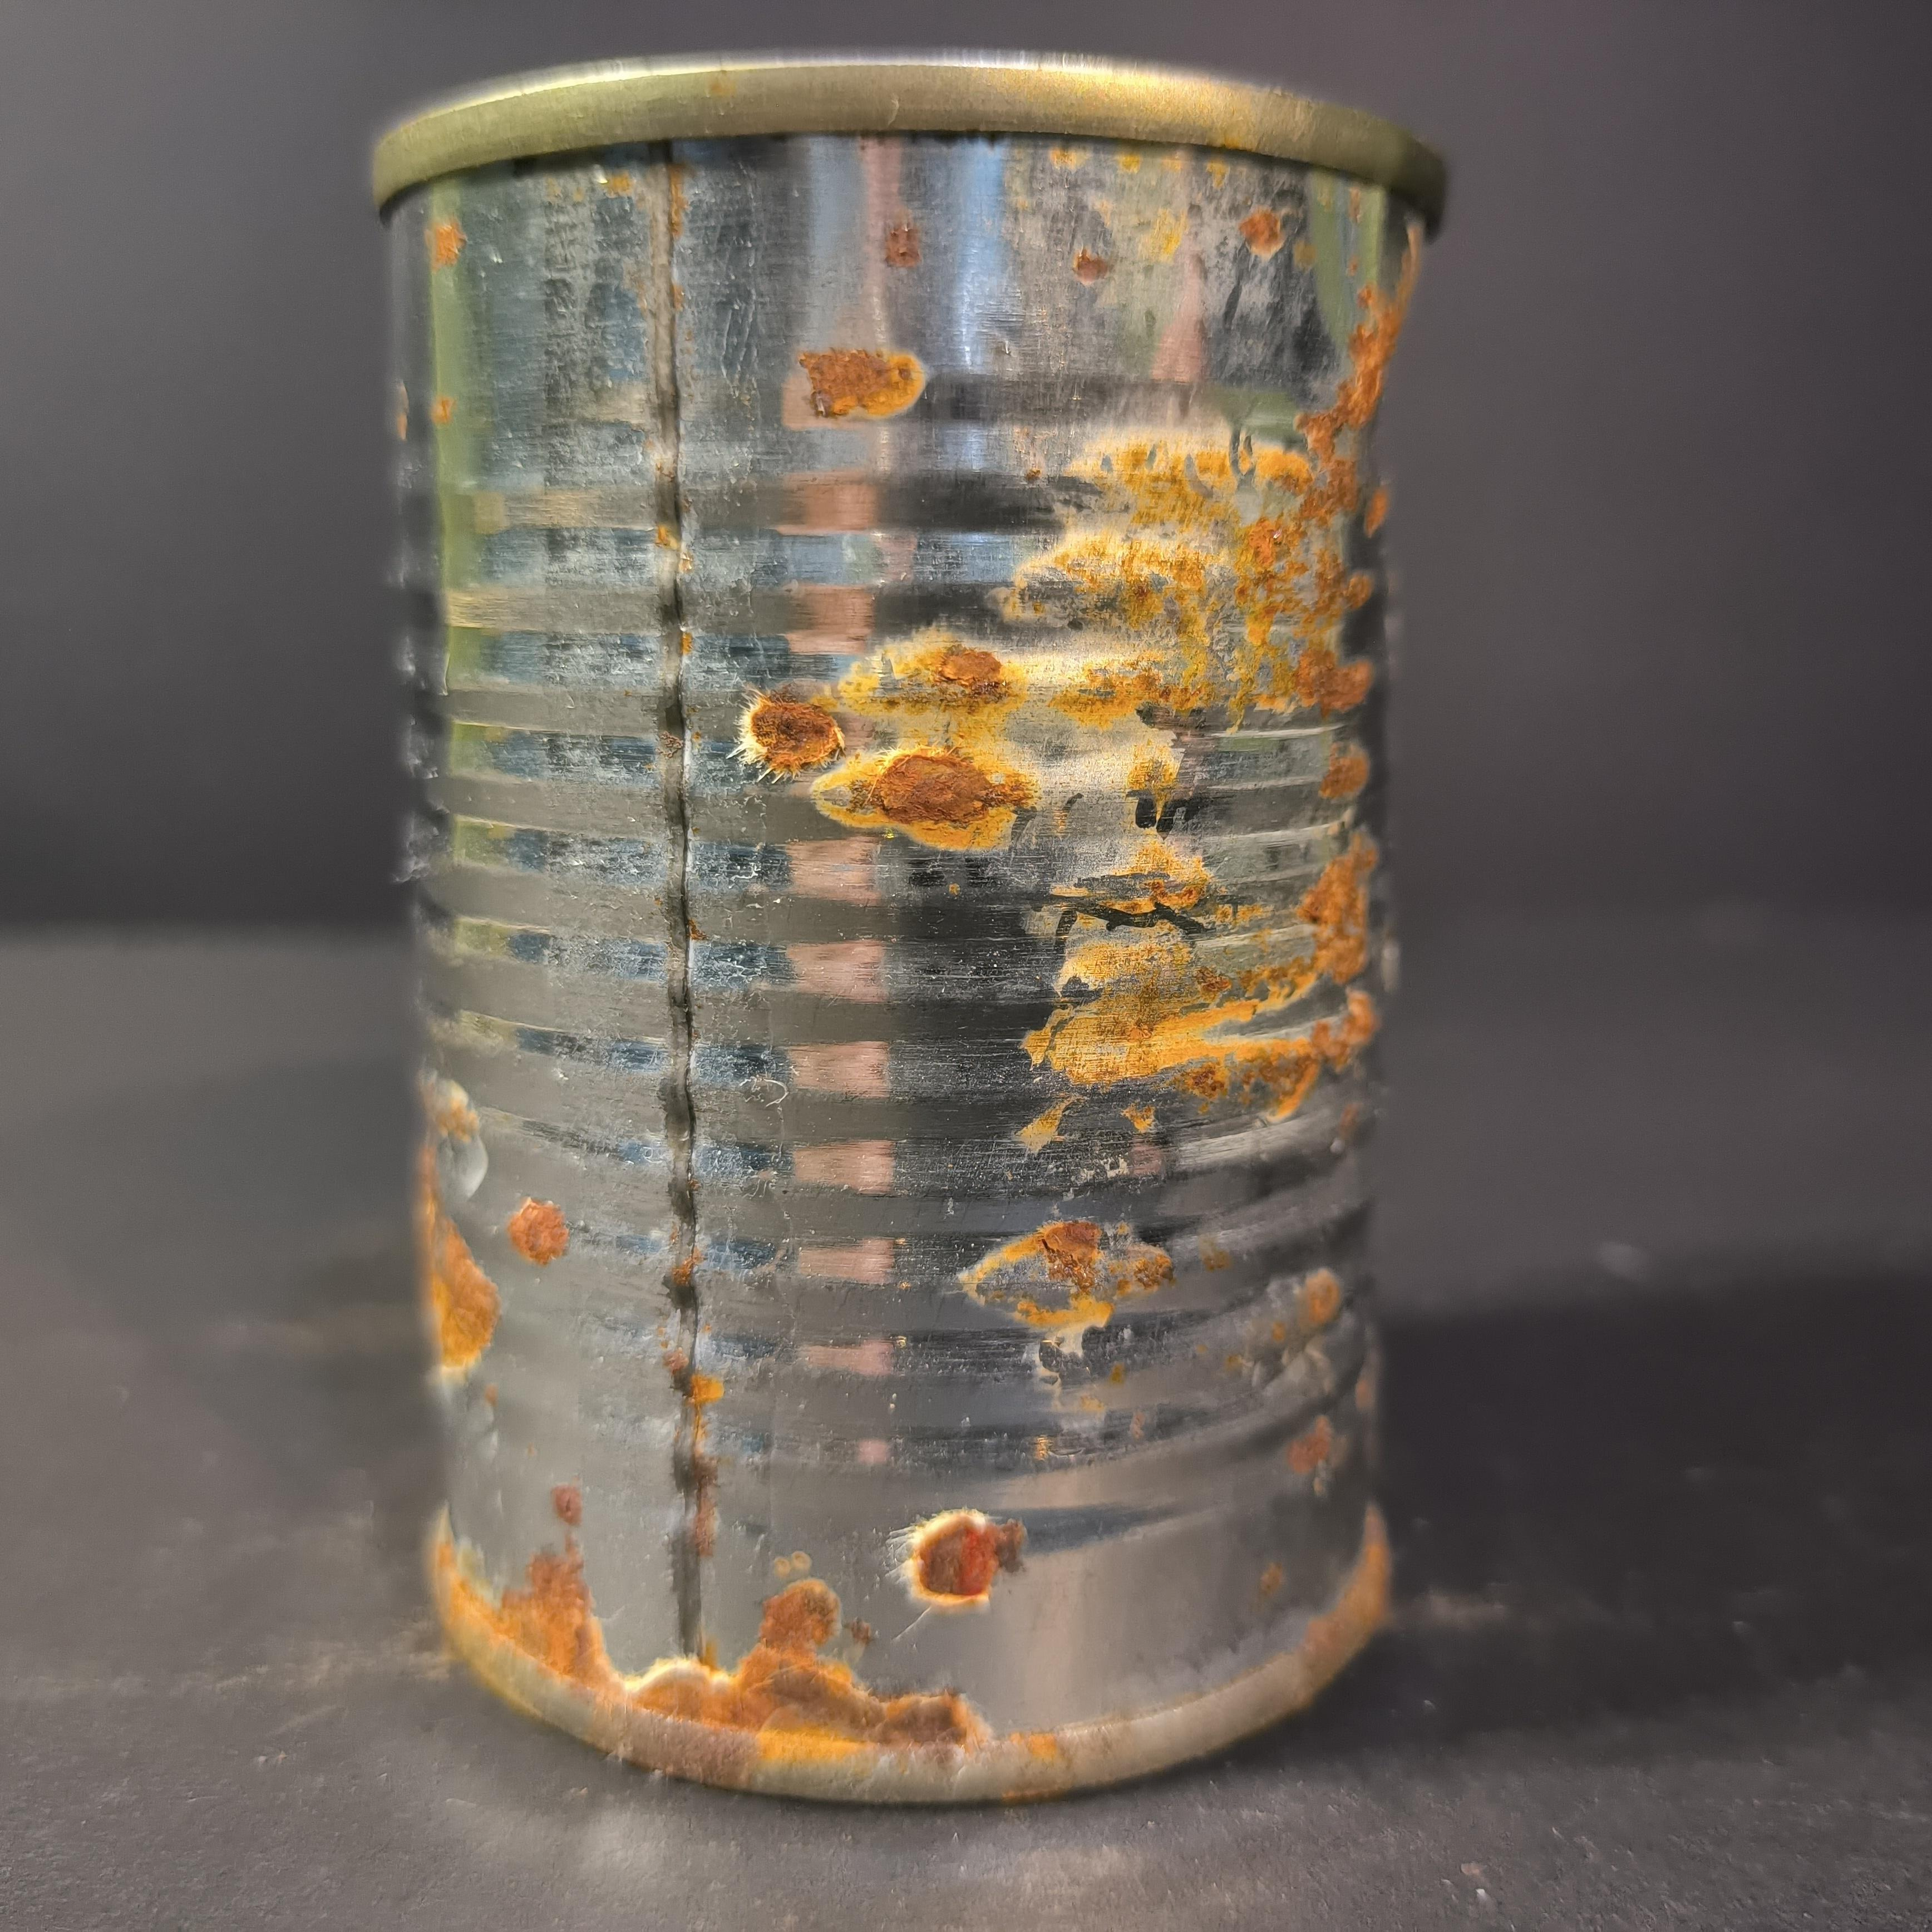Rusted: (341, 44, 1472, 1822)
